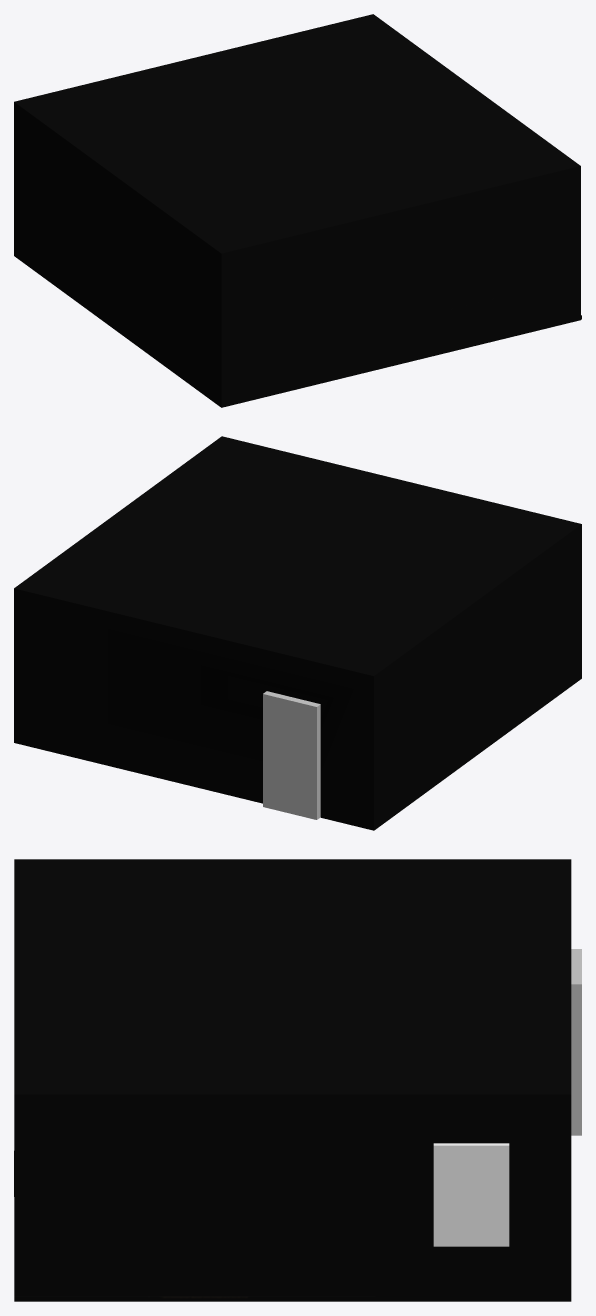
Rendered from room_301_engine.obj.
3 views of the same model, one above another, from view 1: azimuth 30°, elevation 25°; view 2: azimuth 150°, elevation 25°; view 3: azimuth 270°, elevation 25° (orthographic). The views are drawn at different scales.
Parts seen in each view (by area): view 1: Rectangle001, Rectangle024, Rectangle005; view 2: Rectangle001, Rectangle024, PH_DOOR_301_9L; view 3: Rectangle024, Rectangle001, PH_WIN_301_L, Rectangle005, PH_DOOR_301_9L.
Boxes of the visible parts, box(x1,y1,x2,y2) form: Rectangle001: box(14, 106, 580, 407); Rectangle024: box(14, 14, 580, 257); Rectangle005: box(222, 315, 581, 406); Rectangle001: box(14, 528, 581, 830); Rectangle024: box(14, 436, 581, 679); PH_DOOR_301_9L: box(263, 691, 320, 819); Rectangle024: box(14, 859, 571, 1099); Rectangle001: box(14, 1099, 571, 1301); PH_WIN_301_L: box(433, 1143, 509, 1246); Rectangle005: box(14, 1296, 375, 1301); PH_DOOR_301_9L: box(571, 949, 581, 1135).
Bounding box in the file's own units: 101 × 41 × 102.
